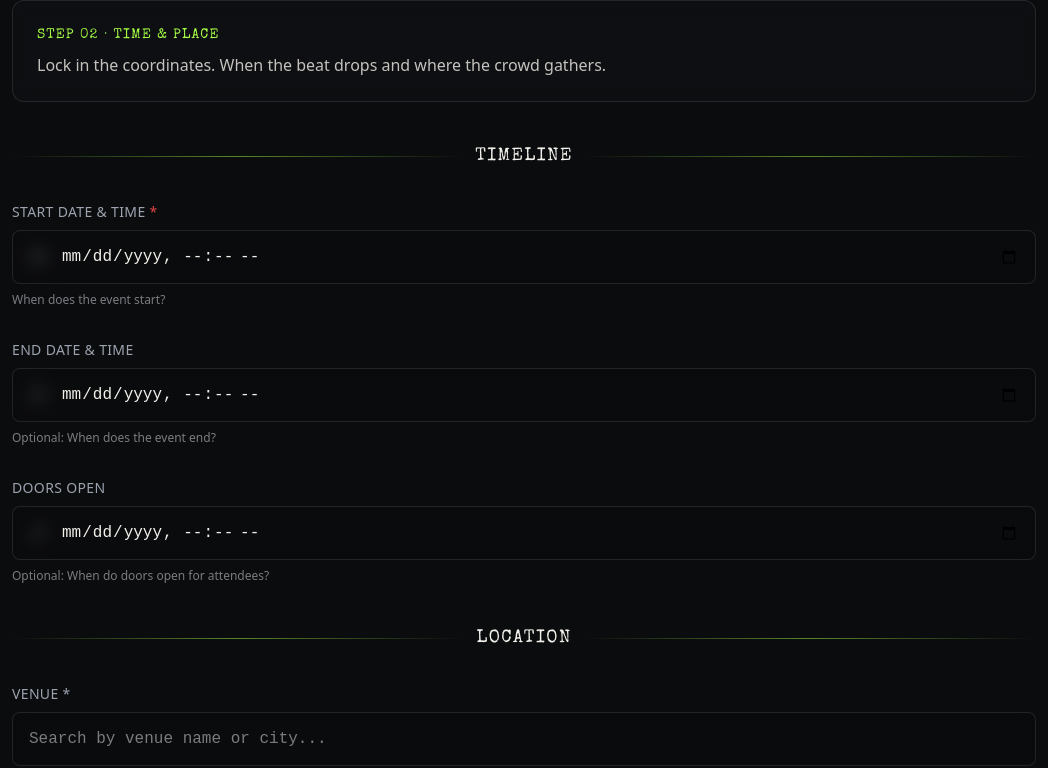
Test case: ScheduleStep › edge cases › should handle empty venues array
The width and height of the screenshot is (1048, 768).
Focus the dropdown named "search for venue": (524, 739) [12,712,1036,766]
(page scrolled)
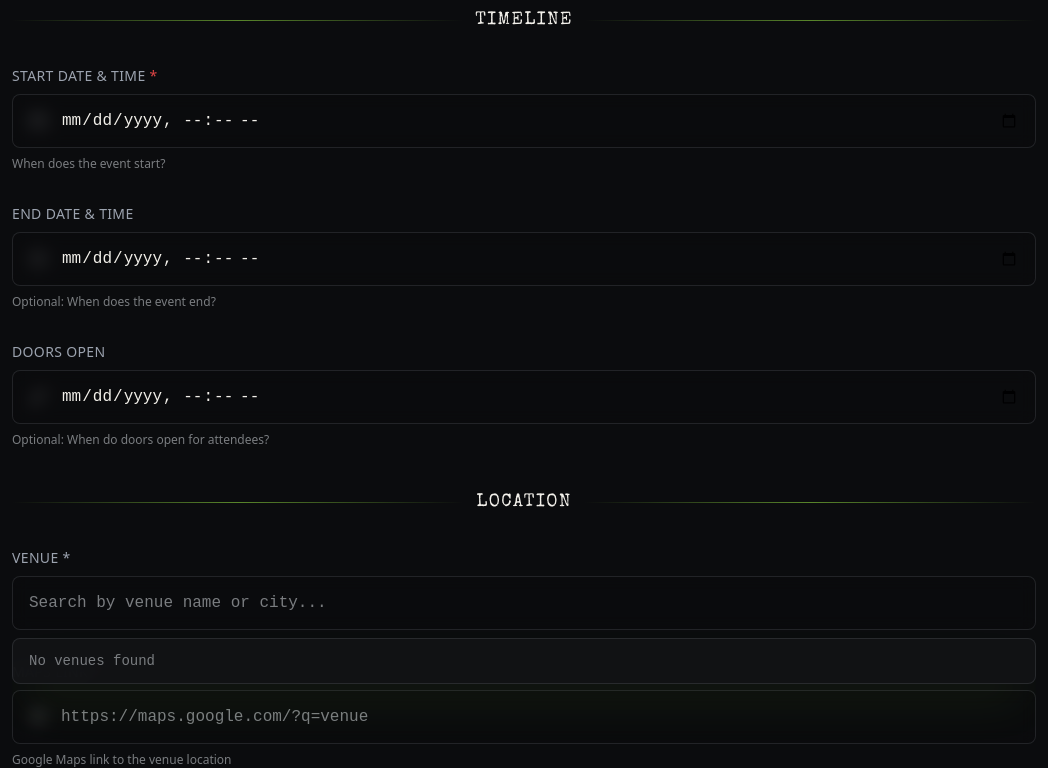
Expected: the text "No venues found" is shown, [29,653,155,669]
